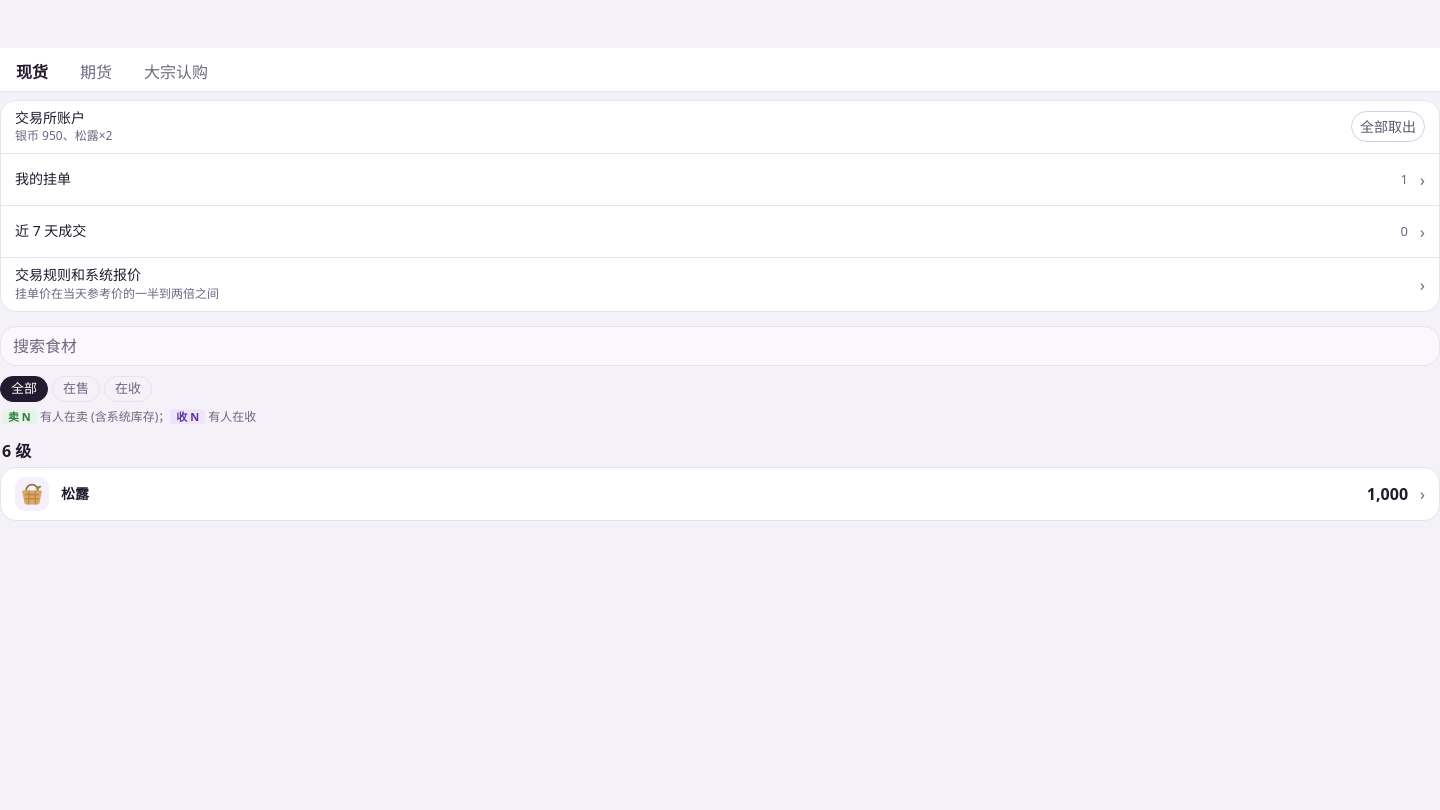
Test: 交易所页的防作弊提示（156-2） › 被冻结：顶部提示原因，下单和取出禁用
Click the button with test id "ex-food-11" at [32, 494], box [1,468,1439,520]
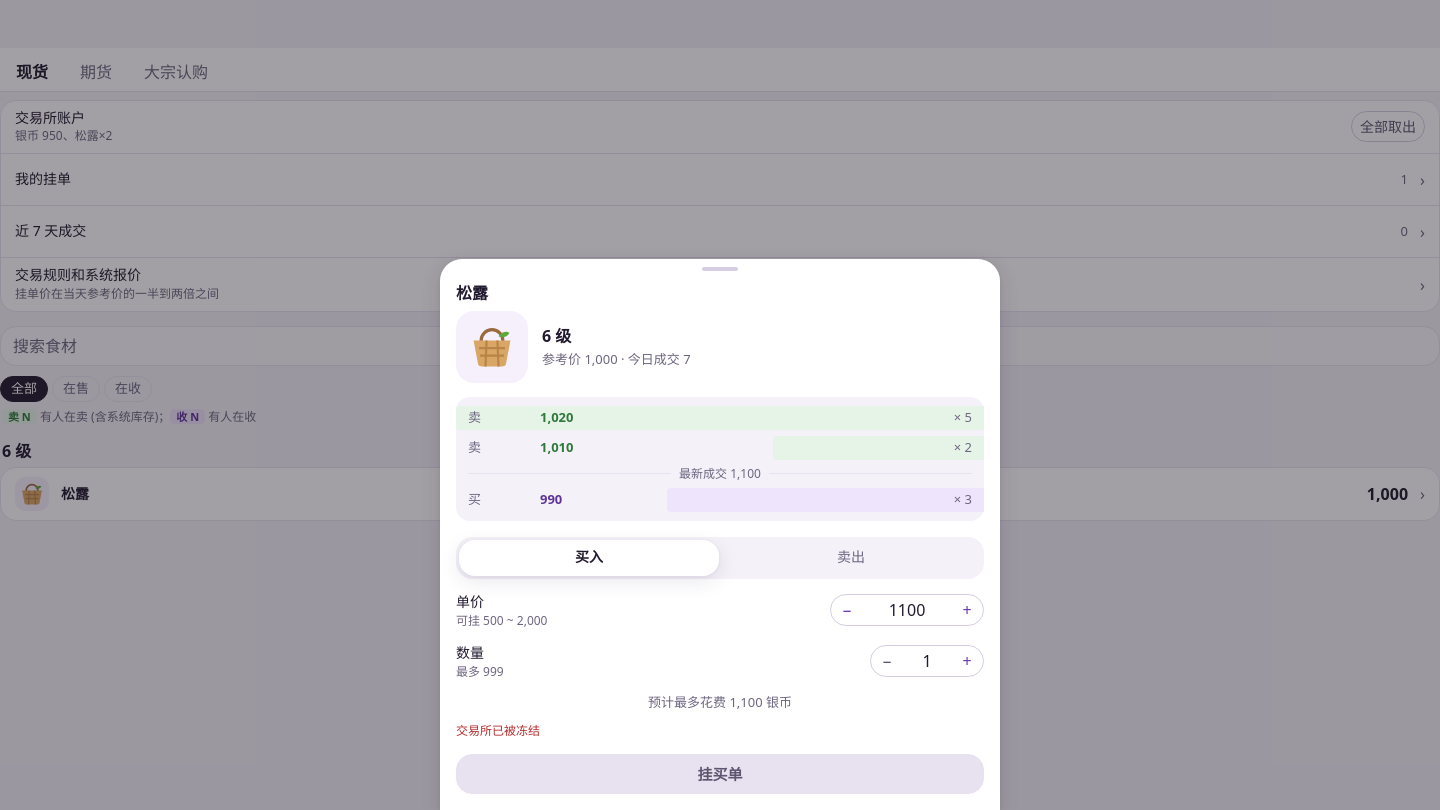
expect the text with test id "ex-frozen" shows "对倒": met, box [12,60,305,78]
expect the button with test id "ex-submit" is disabled: met, box [456,754,984,794]
